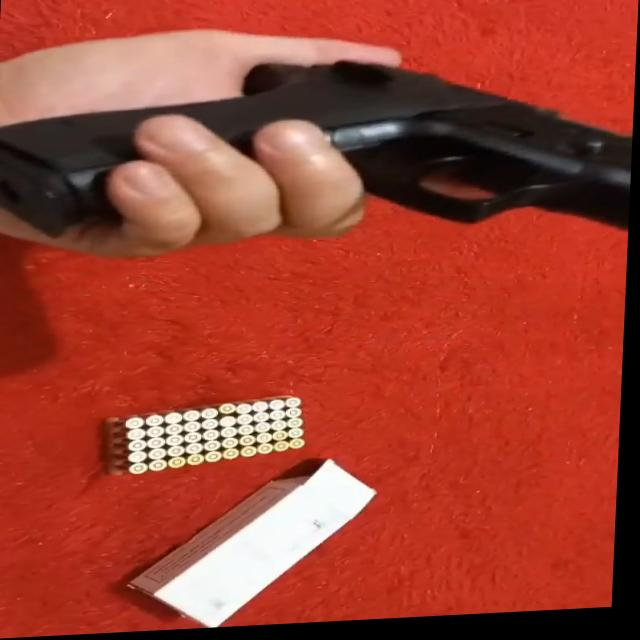handgun: (0, 43, 638, 267)
